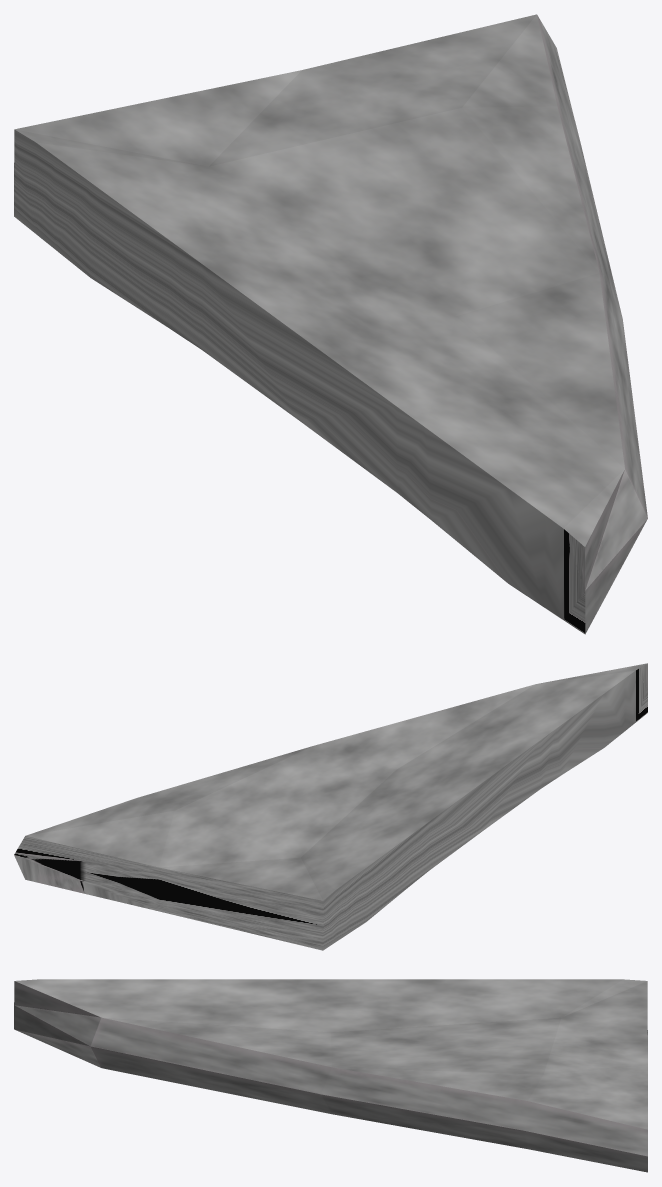
The model's file is ShelfEnd4.gltf.
3 views of the same model, one above another, from view 1: azimuth 30°, elevation 25°; view 2: azimuth 150°, elevation 25°; view 3: azimuth 270°, elevation 25° (orthographic). The views are drawn at different scales.
Visible parts, largest first — view 1: ShelfEnd4; view 2: ShelfEnd4; view 3: ShelfEnd4.
Part boxes in pixels (box(x1,y1,x2,y2)): ShelfEnd4: box(14, 14, 647, 634); ShelfEnd4: box(14, 663, 647, 950); ShelfEnd4: box(14, 979, 647, 1172).
Size of the model in its own units: 2.74 by 0.539 by 5.
1 material, 1 textured.
